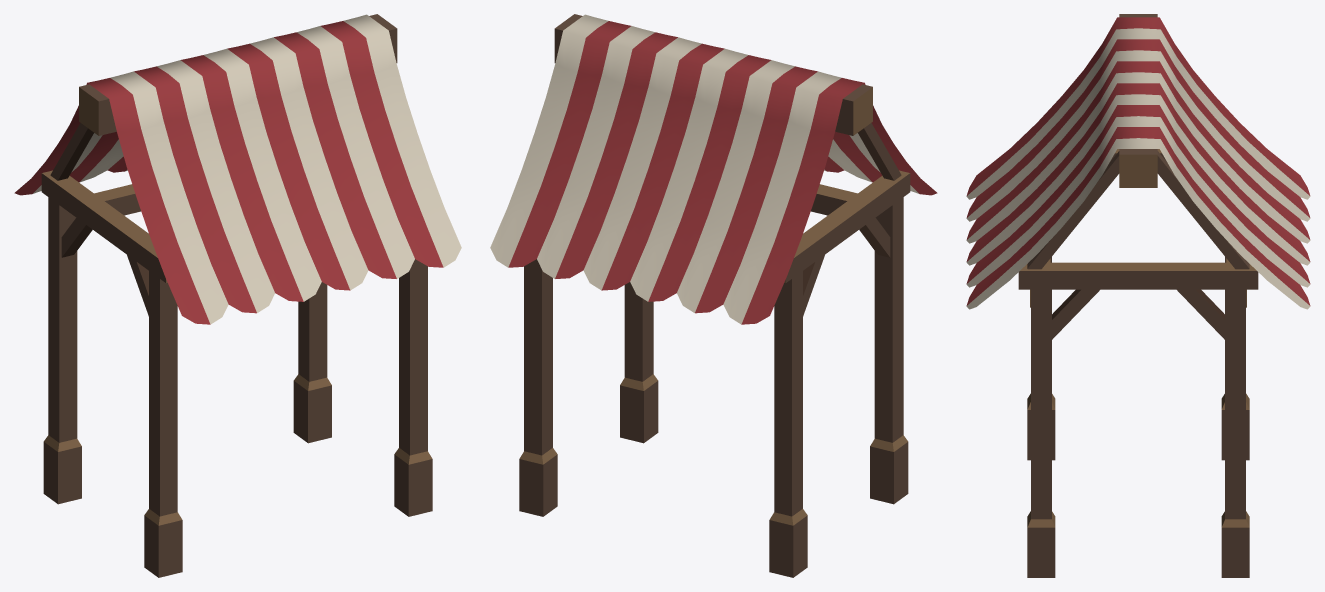
The model's file is HealStand.glb.
The picture shows the model from 3 angles, left to right: view 1: azimuth 30°, elevation 25°; view 2: azimuth 150°, elevation 25°; view 3: azimuth 270°, elevation 25°; orthographic projection. The views are drawn at different scales.
Visible parts, largest first — view 1: Cube.004; view 2: Cube.004; view 3: Cube.004.
Part boxes in pixels (x1=…): Cube.004: x1=14, y1=14, x2=461, y2=577; Cube.004: x1=490, y1=14, x2=937, y2=577; Cube.004: x1=966, y1=14, x2=1310, y2=577.
Bounding box in the file's own units: 3.83 × 5.47 × 3.96.
1 material, 1 textured.
